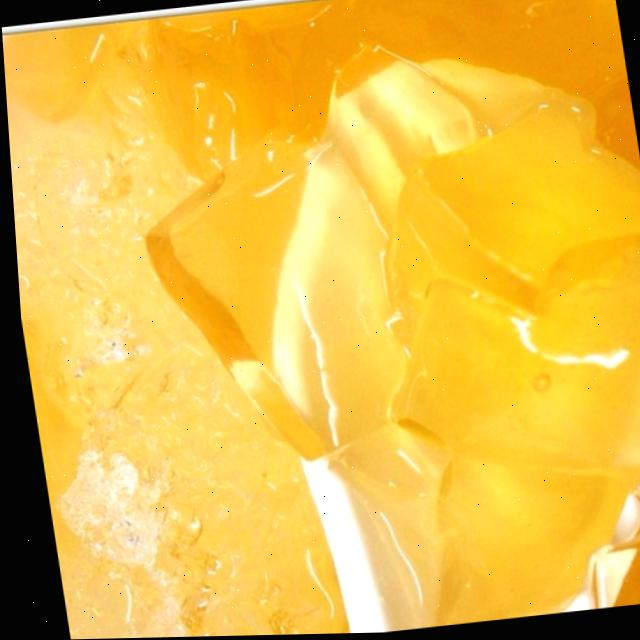蛋糕甜品: (19, 0, 640, 640)
